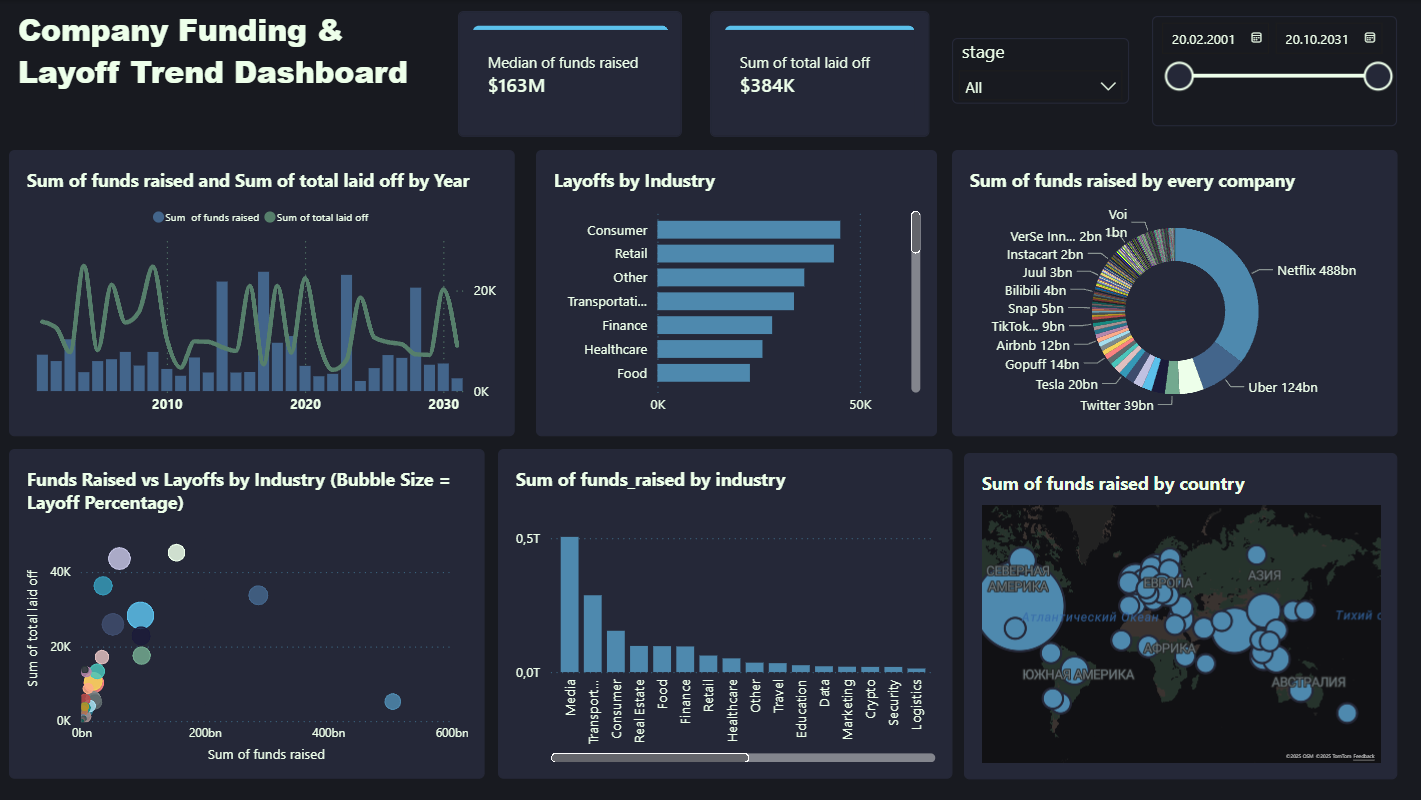

Layout of this report page (visuals, bound fields, positions):
{"tool":"powerbi","page":{"name":"Страница 1","canvas":[1280,720],"ordinal":0},"visuals":[{"type":"slicer","fields":{"Values":["project_layoffs layoffs_staging2.date"]},"box":[1036.9,14.4,220,98.8],"z":0},{"type":"cardVisual","fields":{"Data":["Median(project_layoffs layoffs_staging2.funds_raised)"]},"box":[413.9,9.9,201.1,113.1],"z":1000},{"type":"cardVisual","fields":{"Data":["Sum(project_layoffs layoffs_staging2.total_laid_off)"]},"box":[640.1,9.9,196.6,113.1],"z":2000},{"type":"textbox","box":[18.9,8.1,386,105.9],"z":3000},{"type":"lineClusteredColumnComboChart","title":"Sum of funds raised and Sum of total laid off by Year","fields":{"Category":["project_layoffs layoffs_staging2.date.Изменение.Иерархия дат.Год","project_layoffs layoffs_staging2.date.Изменение.Иерархия дат.Квартал","project_layoffs layoffs_staging2.date.Изменение.Иерархия дат.Месяц","project_layoffs layoffs_staging2.date.Изменение.Иерархия дат.День"],"Y2":["Sum(project_layoffs layoffs_staging2.total_laid_off)"],"Y":["Sum(project_layoffs layoffs_staging2.funds_raised)"]},"box":[10.8,134.7,454.3,256.8],"z":4000},{"type":"barChart","title":"Layoffs by Industry","fields":{"Category":["project_layoffs layoffs_staging2.industry"],"Y":["Sum(project_layoffs layoffs_staging2.total_laid_off)"]},"box":[483.9,134.7,360,256.8],"z":5000},{"type":"scatterChart","title":"Funds Raised vs Layoffs by Industry (Bubble Size = Layoff Percentage)","fields":{"X":["Sum(project_layoffs layoffs_staging2.funds_raised)"],"Y":["Sum(project_layoffs layoffs_staging2.total_laid_off)"],"Size":["CountNonNull(project_layoffs layoffs_staging2.percentage_laid_off)"],"Series":["project_layoffs layoffs_staging2.industry"]},"box":[10.8,403.1,427.3,296.3],"z":6000},{"type":"donutChart","title":"Sum of funds raised by every company","fields":{"Category":["project_layoffs layoffs_staging2.company"],"Y":["Sum(project_layoffs layoffs_staging2.funds_raised)"]},"box":[857.4,134.8,399.9,257.1],"z":8000},{"type":"slicer","fields":{"Values":["project_layoffs layoffs_staging2.stage"]},"box":[857.4,34.1,158.9,59.3],"z":9000},{"type":"columnChart","fields":{"Y":["Sum(project_layoffs layoffs_staging2.funds_raised)"],"Category":["project_layoffs layoffs_staging2.industry"]},"box":[449.8,403.1,407.6,296.3],"z":10000},{"type":"azureMap","fields":{"Category":["project_layoffs layoffs_staging2.country"],"Size":["Sum(project_layoffs layoffs_staging2.funds_raised)"]},"box":[868.1,406.7,388.7,292.7],"z":10001}]}

Visuals, with their boxes in screenshot pixels (x1, y1, x2, y2), scaled from the page's 1280x720 canvas onto the 1421x800 screenshot:
slicer - project_layoffs layoffs_staging2.date: <bbox>1151, 16, 1395, 126</bbox>
cardVisual - Median(project_layoffs layoffs_staging2.funds_raised): <bbox>459, 11, 683, 137</bbox>
cardVisual - Sum(project_layoffs layoffs_staging2.total_laid_off): <bbox>711, 11, 929, 137</bbox>
textbox: <bbox>21, 9, 450, 127</bbox>
"Sum of funds raised and Sum of total laid off by Year" lineClusteredColumnComboChart: <bbox>12, 150, 516, 435</bbox>
"Layoffs by Industry" barChart: <bbox>537, 150, 937, 435</bbox>
"Funds Raised vs Layoffs by Industry (Bubble Size = Layoff Percentage)" scatterChart: <bbox>12, 448, 486, 777</bbox>
"Sum of funds raised by every company" donutChart: <bbox>952, 150, 1396, 435</bbox>
slicer - project_layoffs layoffs_staging2.stage: <bbox>952, 38, 1128, 104</bbox>
columnChart - Sum(project_layoffs layoffs_staging2.funds_raised) x project_layoffs layoffs_staging2.industry: <bbox>499, 448, 952, 777</bbox>
azureMap - project_layoffs layoffs_staging2.country x Sum(project_layoffs layoffs_staging2.funds_raised): <bbox>964, 452, 1395, 777</bbox>
